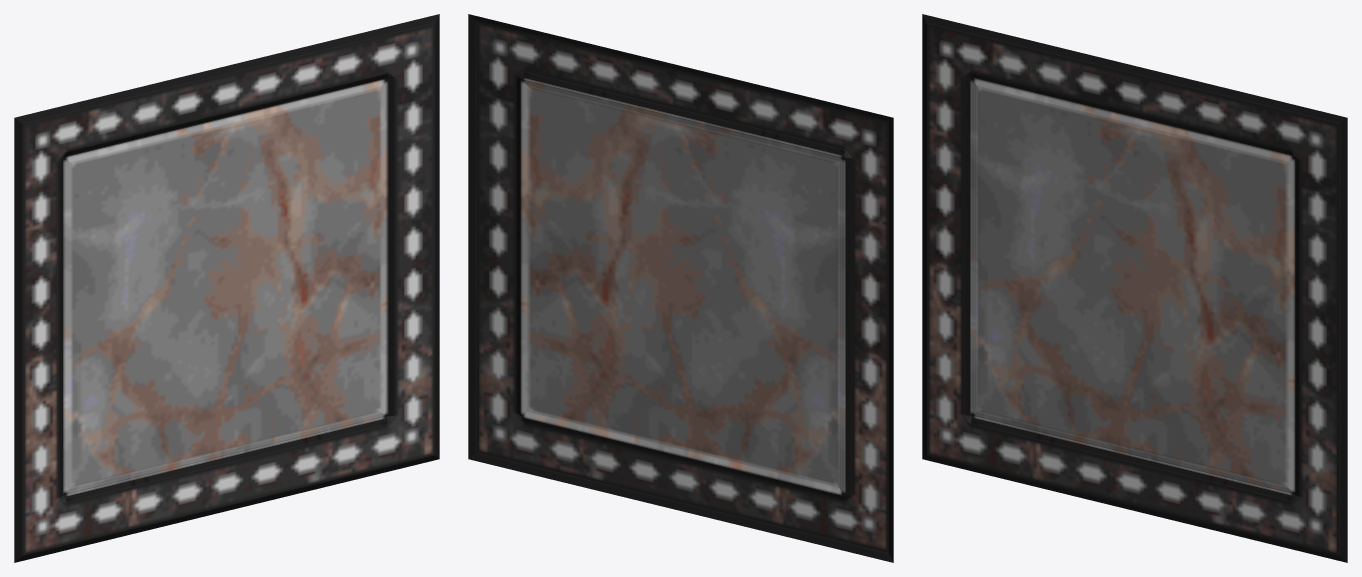
File: exec4_3.fbx
3 views of the same model, side by side, from view 1: azimuth 30°, elevation 25°; view 2: azimuth 150°, elevation 25°; view 3: azimuth 330°, elevation 25° (orthographic).
Parts seen in each view (by area): view 1: exec4_3_mesh; view 2: exec4_3_mesh; view 3: exec4_3_mesh.
Boxes of the visible parts, x1=… form: exec4_3_mesh: x1=14, y1=14, x2=439, y2=562; exec4_3_mesh: x1=468, y1=14, x2=893, y2=562; exec4_3_mesh: x1=922, y1=14, x2=1347, y2=562.
Bounding box in the file's own units: 256 × 256 × 2.
